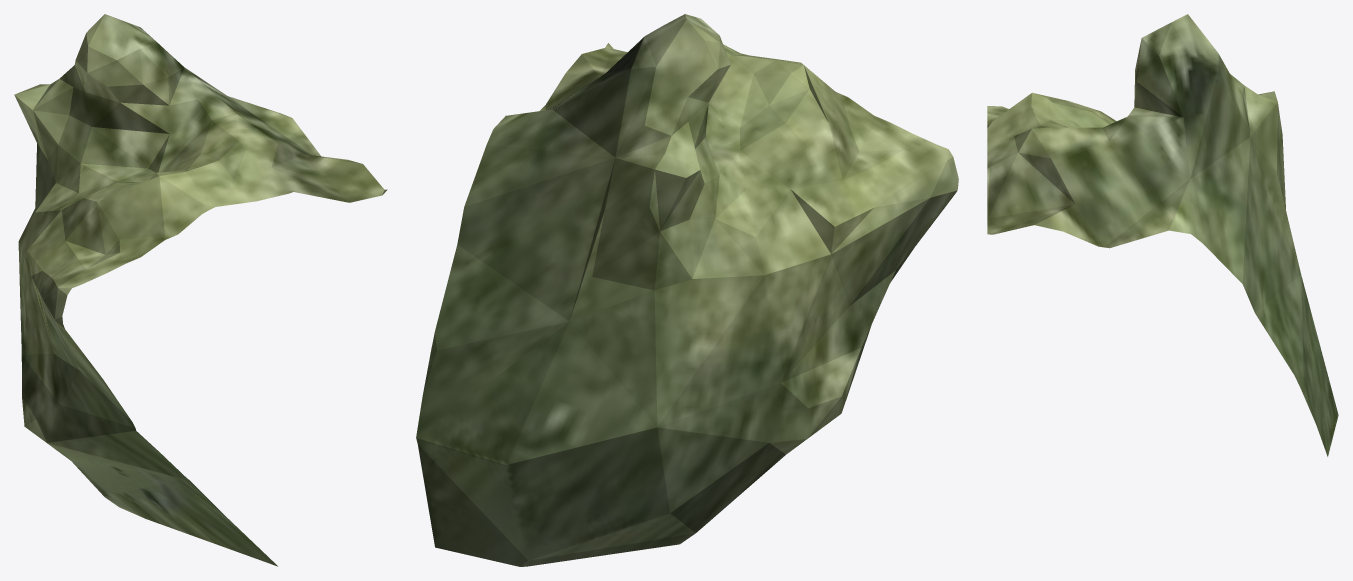
3 views of the same model, side by side, from view 1: azimuth 30°, elevation 25°; view 2: azimuth 150°, elevation 25°; view 3: azimuth 270°, elevation 25° (orthographic). The views are drawn at different scales.
Bounding box in the file's own units: 1.93 × 2.77 × 1.87.
1 material, 1 textured.
